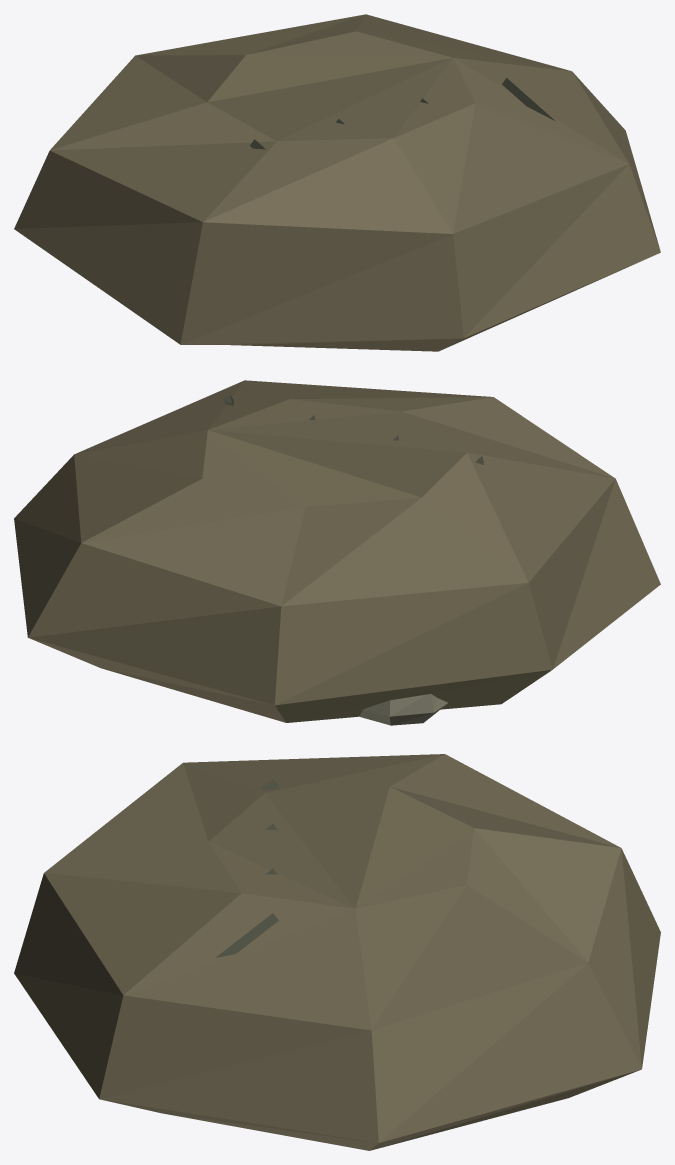
The model's file is mud_mound.glb.
The picture shows the model from 3 angles, top to bottom: view 1: azimuth 30°, elevation 25°; view 2: azimuth 150°, elevation 25°; view 3: azimuth 270°, elevation 25°; orthographic projection. The views are drawn at different scales.
Visible parts, largest first — view 1: geometry; view 2: geometry; view 3: geometry.
Part boxes in pixels (left/top/right/bottom): geometry: left=14, top=14, right=660, bottom=351; geometry: left=14, top=380, right=660, bottom=725; geometry: left=14, top=754, right=660, bottom=1150.
Size of the model in its own units: 0.8908 by 0.2559 by 0.7962.
